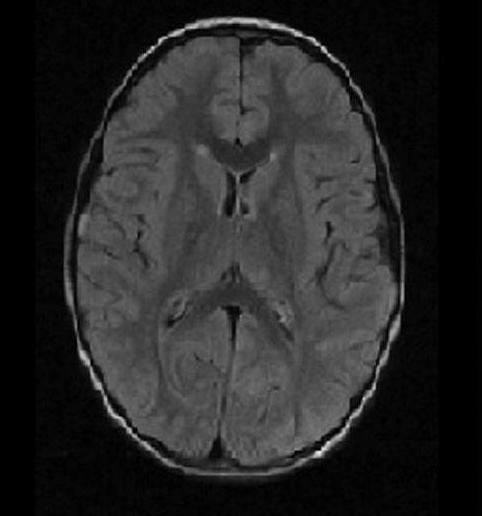Normal_Brain: (1, 1, 482, 472)
